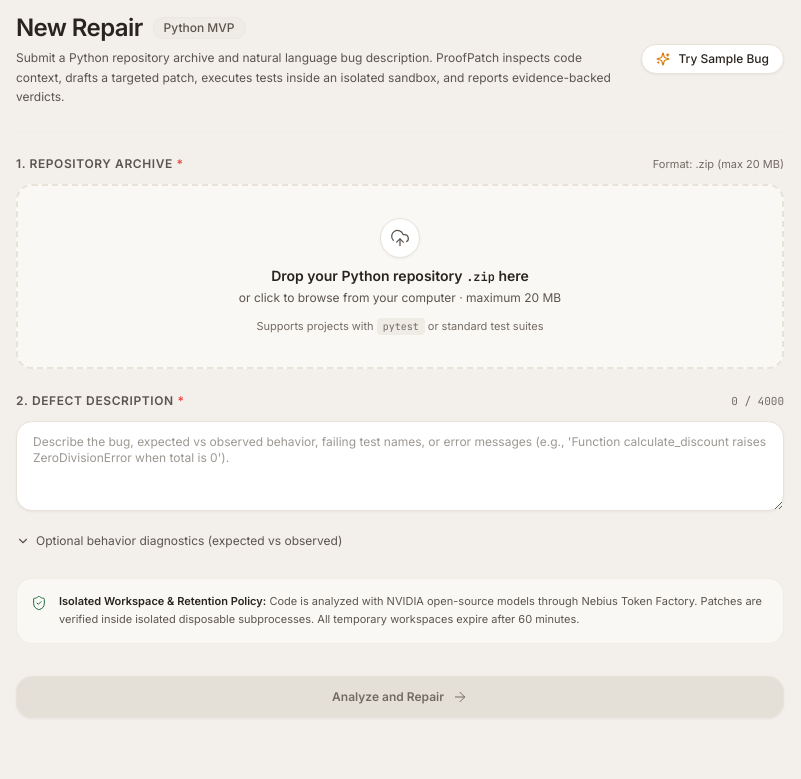
Test: NewRepairPage › toggles optional diagnostic fields and updates inputs
The width and height of the screenshot is (801, 779).
Click the button "Optional behavior diagnostics (expected vs observed)" at (179, 541), box 16,529 -> 342,553
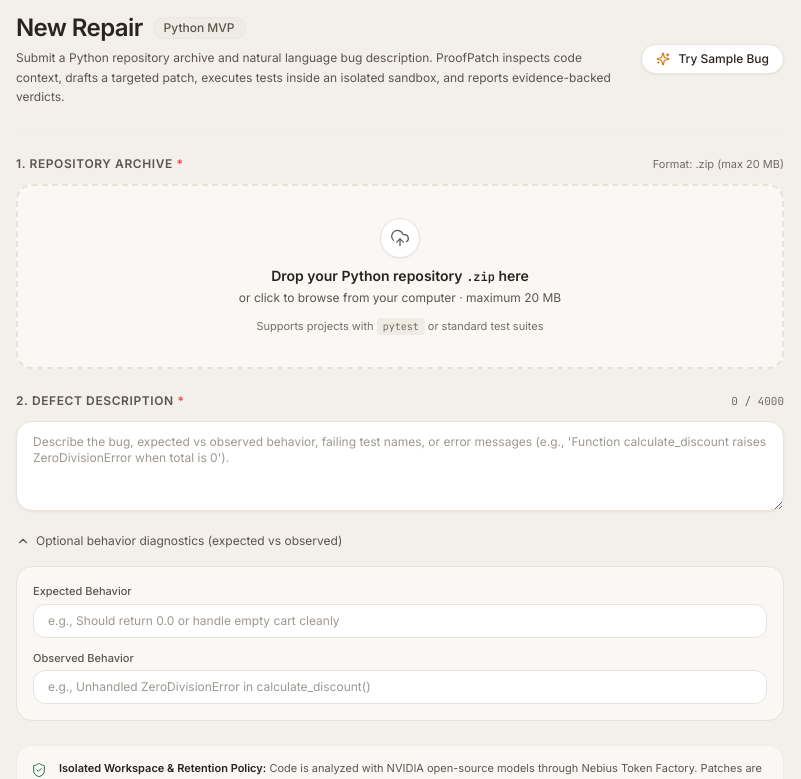
expect the field labelled "Expected Behavior" is shown: met
expect the field labelled "Observed Behavior" is shown: met, box 33,670 -> 767,704
Type "Returns 42" into the field labelled "Expected Behavior" at (400, 620), box 33,604 -> 767,638
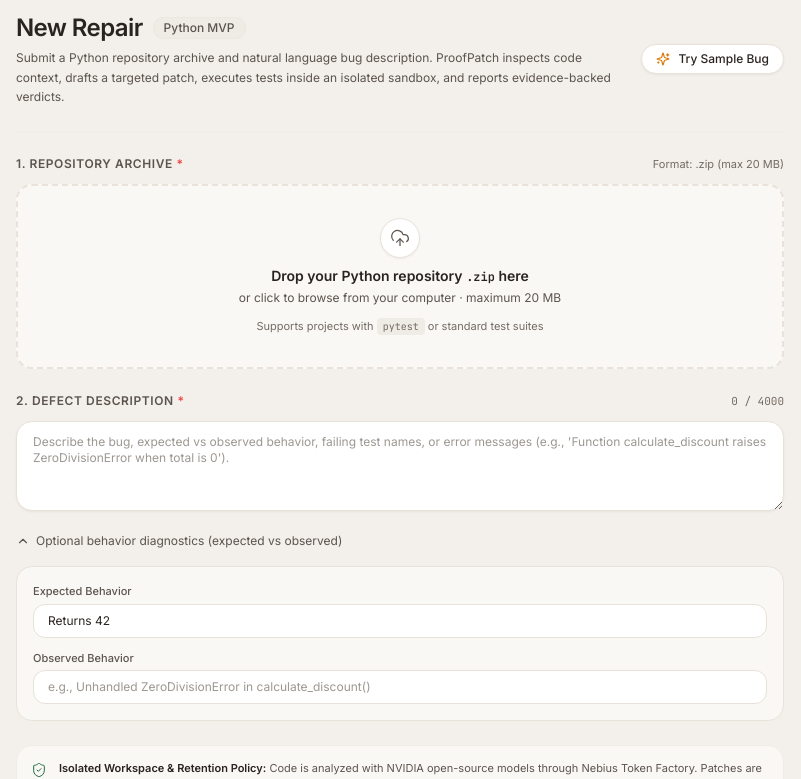
Type "Returns None" into the field labelled "Observed Behavior" at (400, 687), box 33,670 -> 767,704
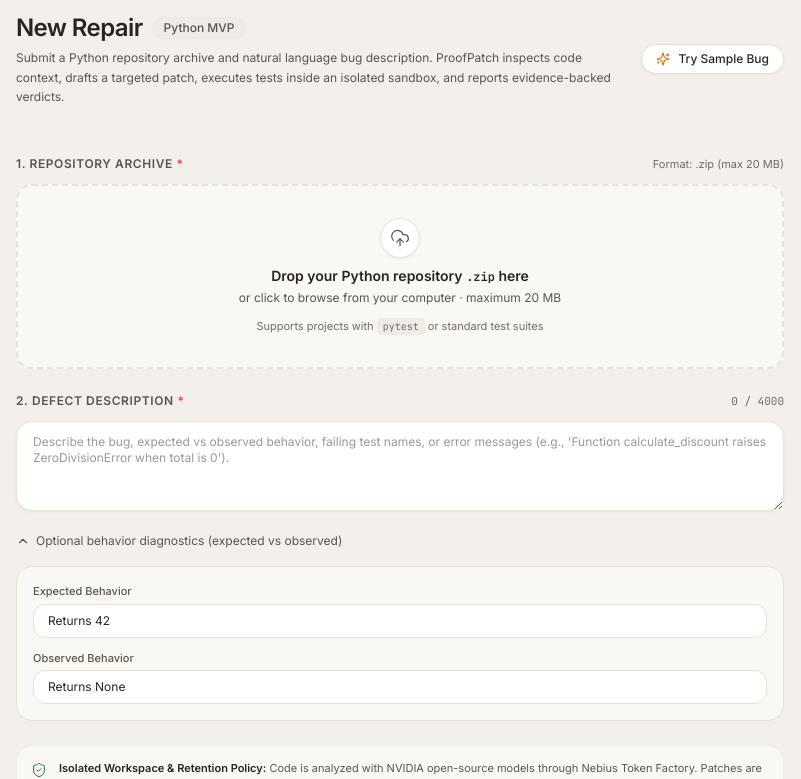
# Toggle closed again
Click the button "Optional behavior diagnostics (expected vs observed)" at (179, 541), box 16,529 -> 342,553
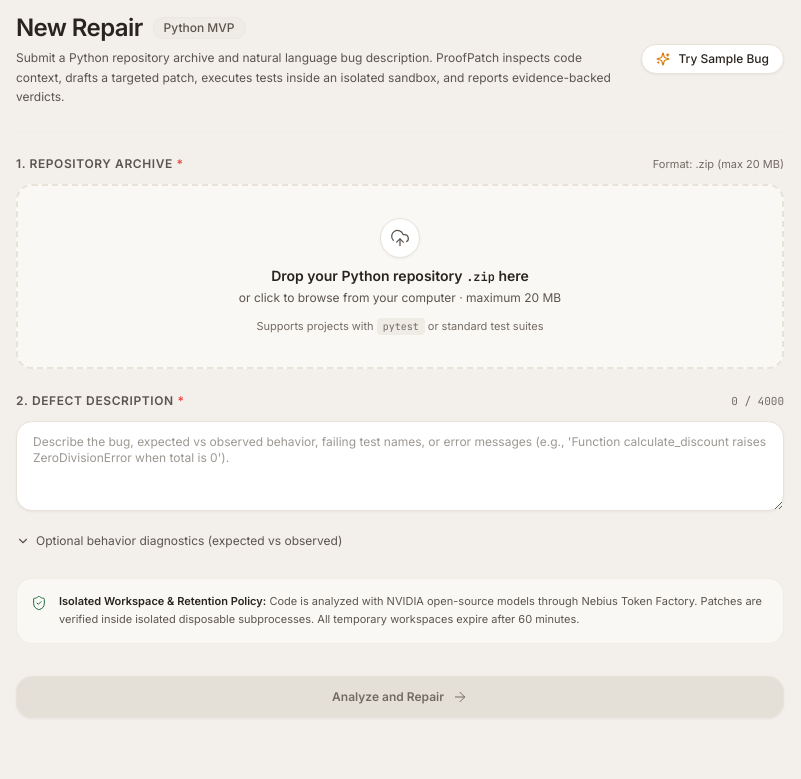
expect the label labelled "Expected Behavior" is gone: met
